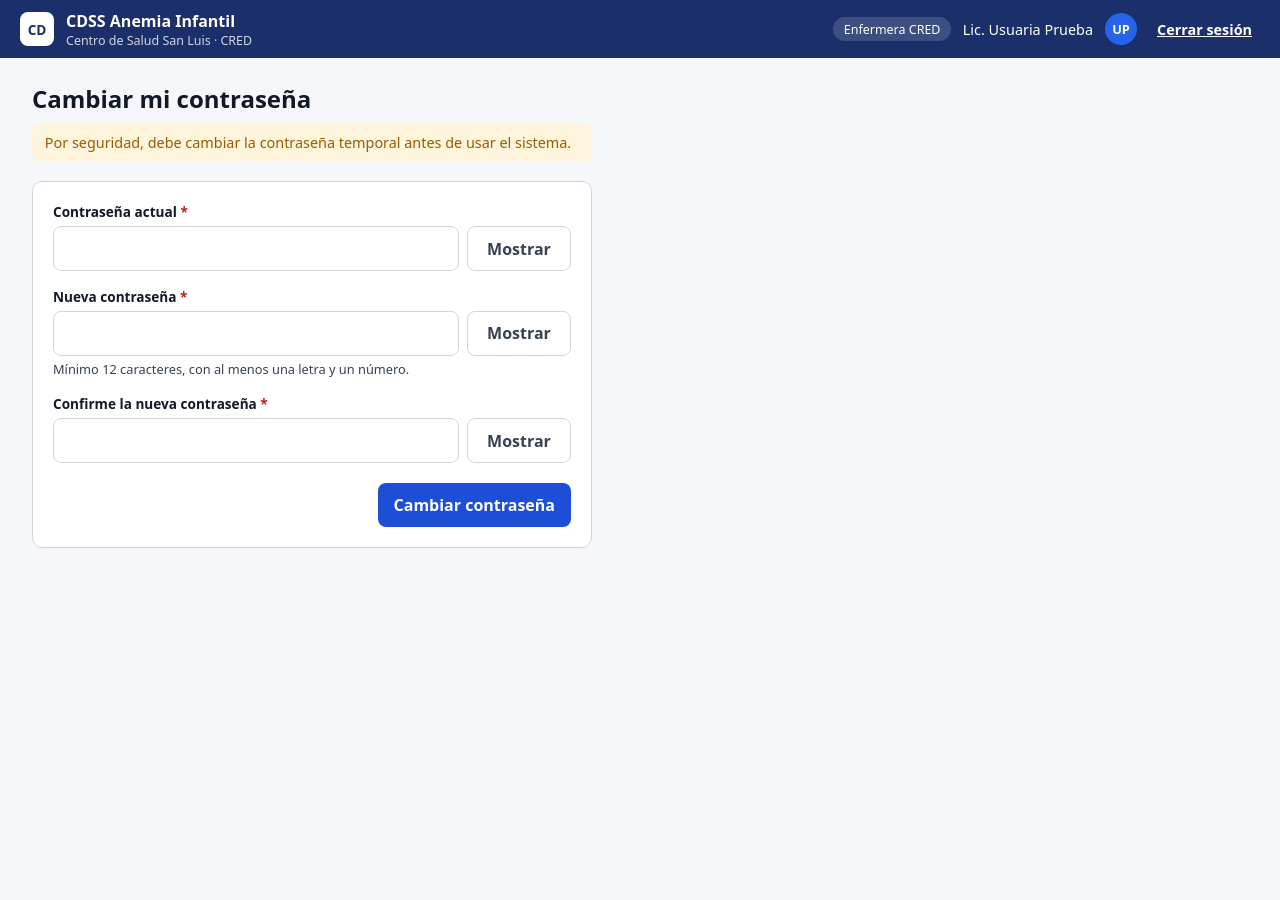
Test: modo obligatorio › «Cerrar sesión» vuelve al login
This screenshot has width=1280, height=900.
Step 1. Click the button "Cerrar sesión" → (1204, 29), box x1=1149 y1=16 x2=1260 y2=43
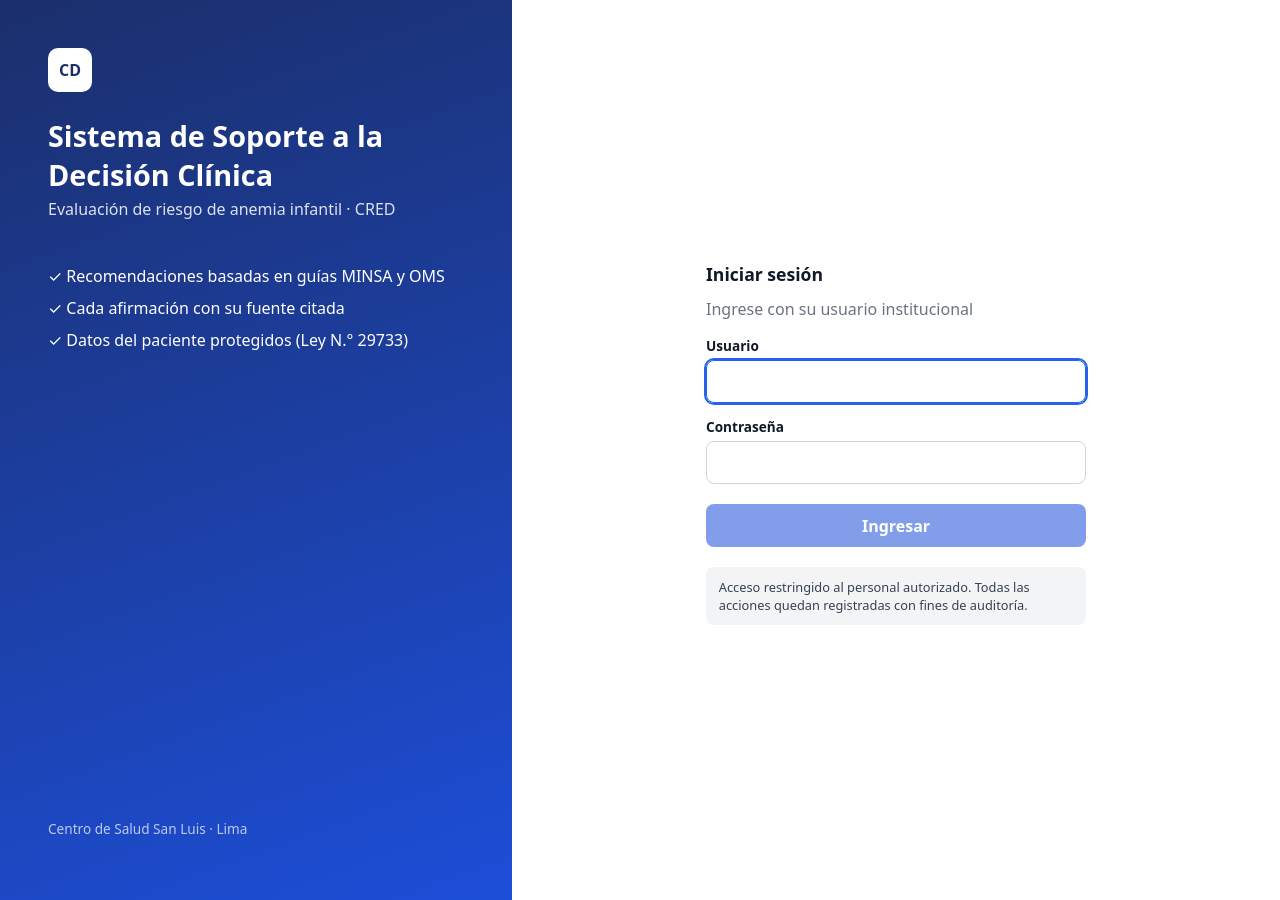
Now the heading "Iniciar sesión" is shown, box x1=706 y1=262 x2=823 y2=286
